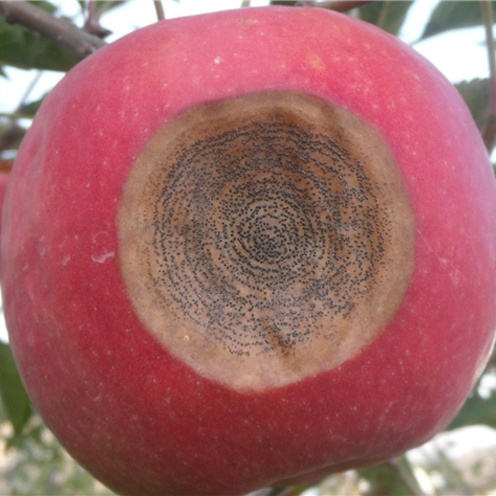apple: (9, 5, 496, 480)
